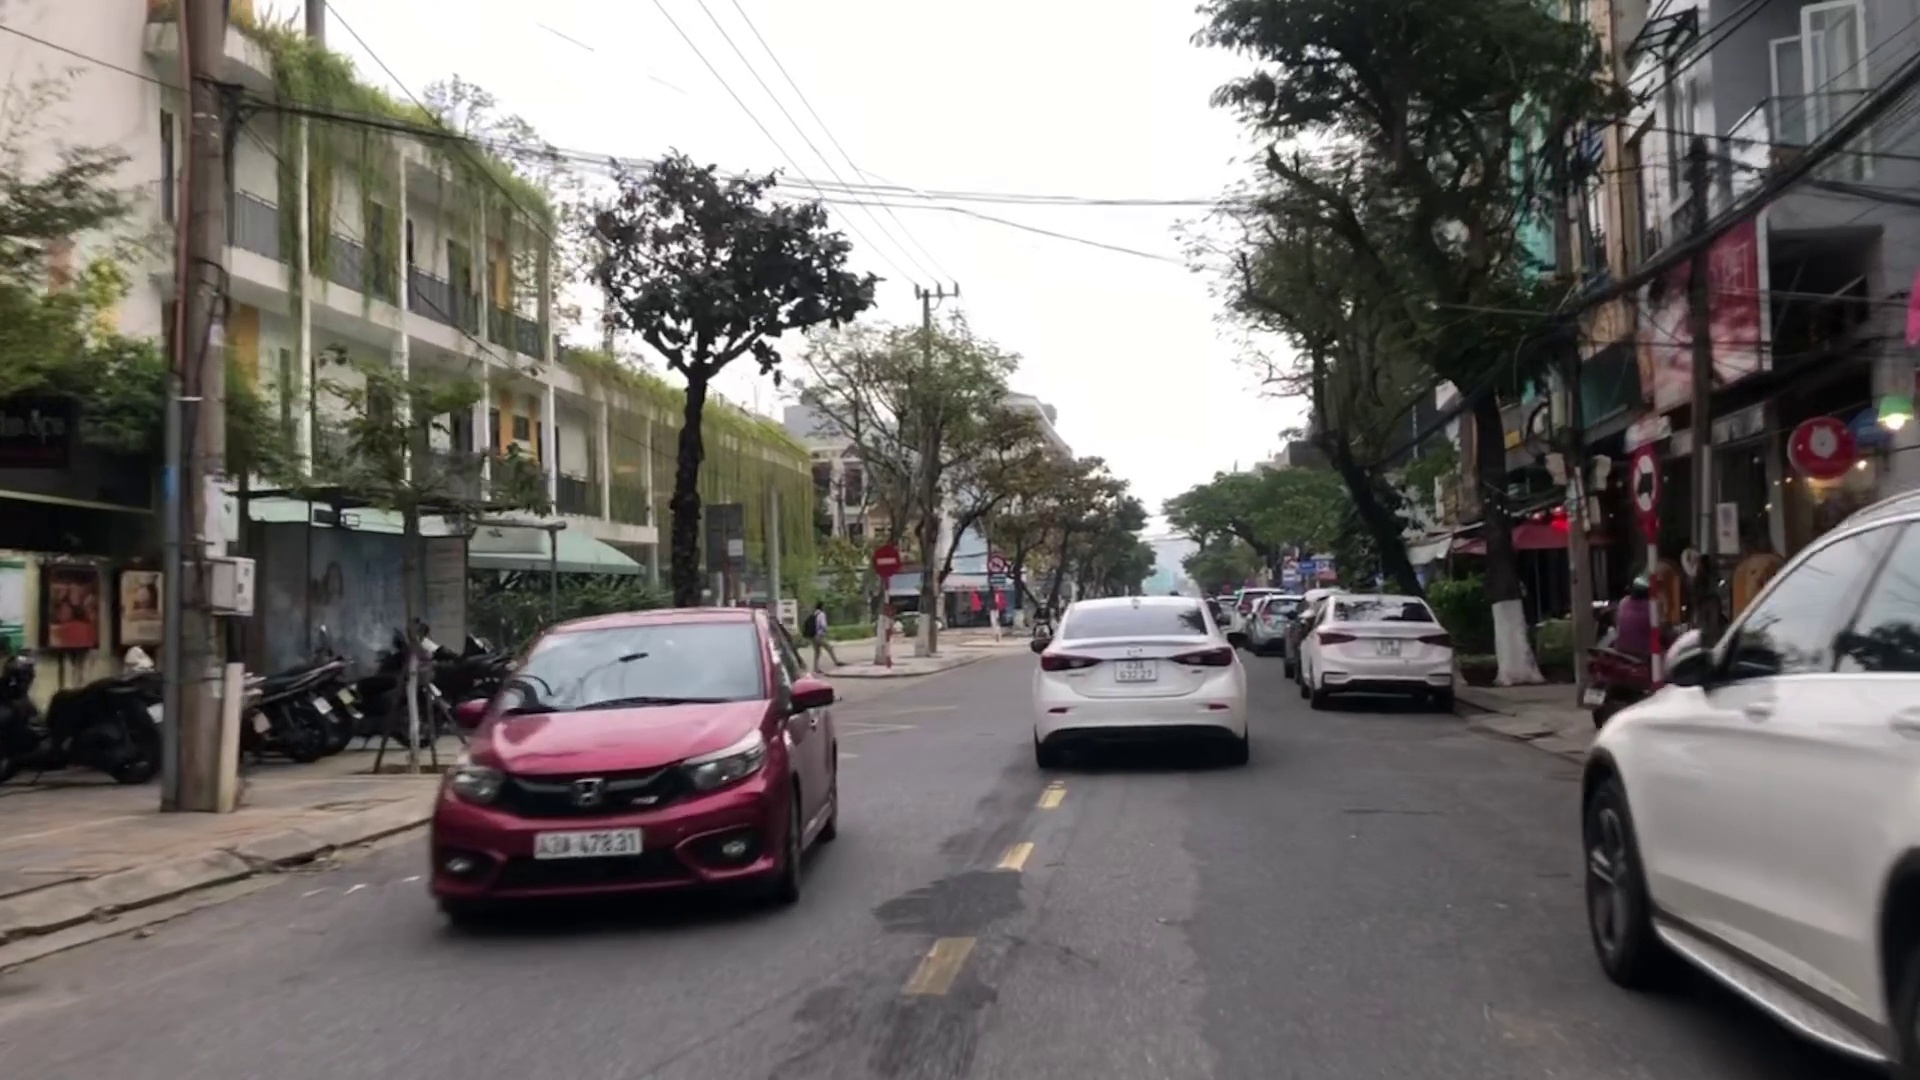Bien khac: (1629, 444, 1664, 516), (986, 555, 1002, 574)
Cam di nguoc chieu: (869, 543, 903, 576)
